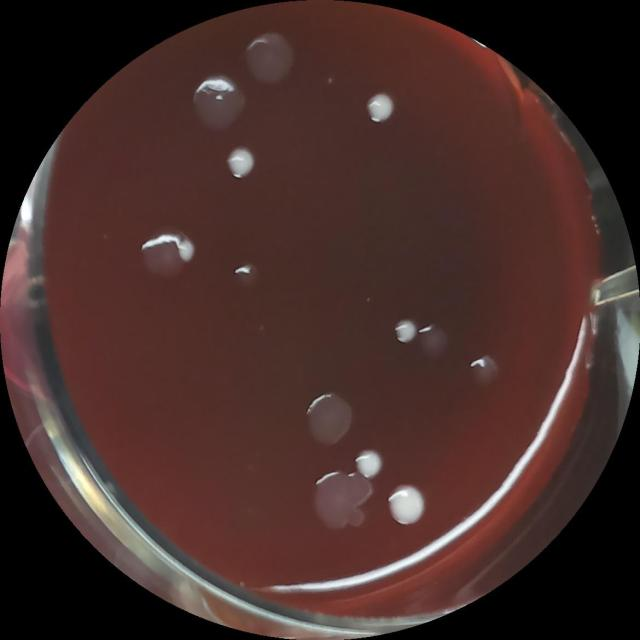Staphylococcus: (386, 482, 427, 528), (223, 145, 260, 185), (363, 92, 399, 128), (354, 449, 384, 482), (392, 316, 419, 348), (174, 234, 199, 264)
